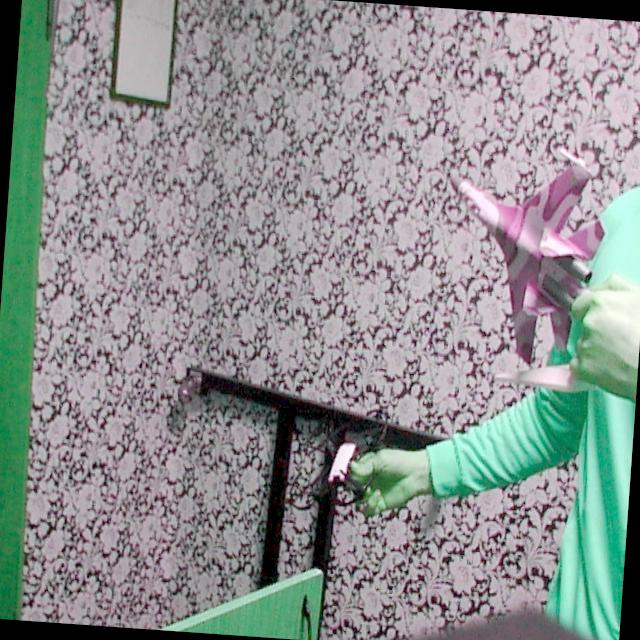drone: (277, 383, 403, 525)
